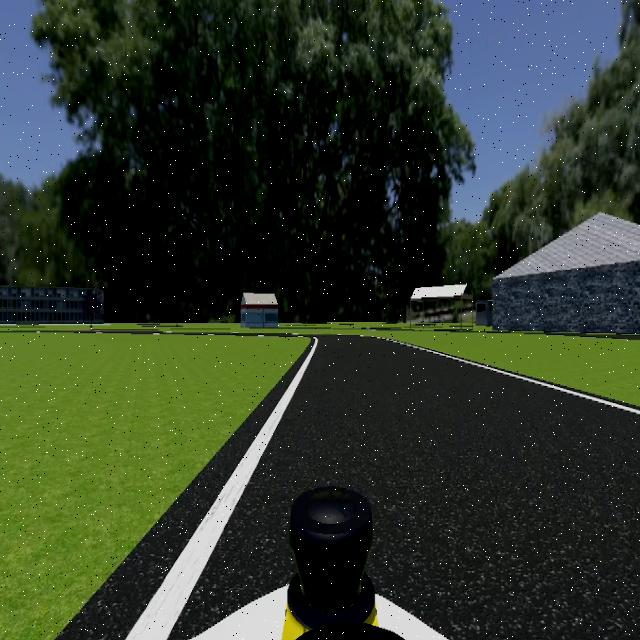road: (171, 338, 640, 640)
solid_line: (124, 342, 317, 640), (391, 340, 640, 416)
